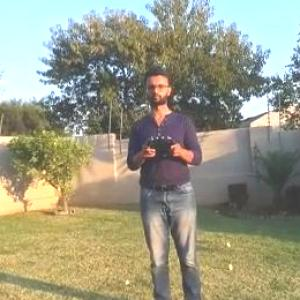follow: (116, 61, 206, 299)
